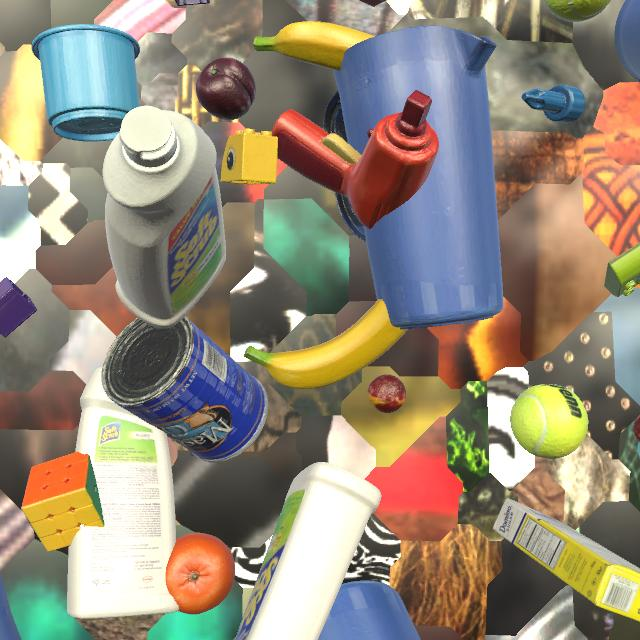ycb_002_master_chef_can: (101, 316, 268, 463)
ycb_003_cracker_box: (359, 0, 387, 7)
ycb_004_sugar_box: (493, 498, 640, 622)
ycb_011_banana: (244, 299, 408, 389), (253, 21, 375, 71)
ycb_017_orange: (165, 533, 235, 615)
ycb_018_plum: (196, 57, 256, 120)
